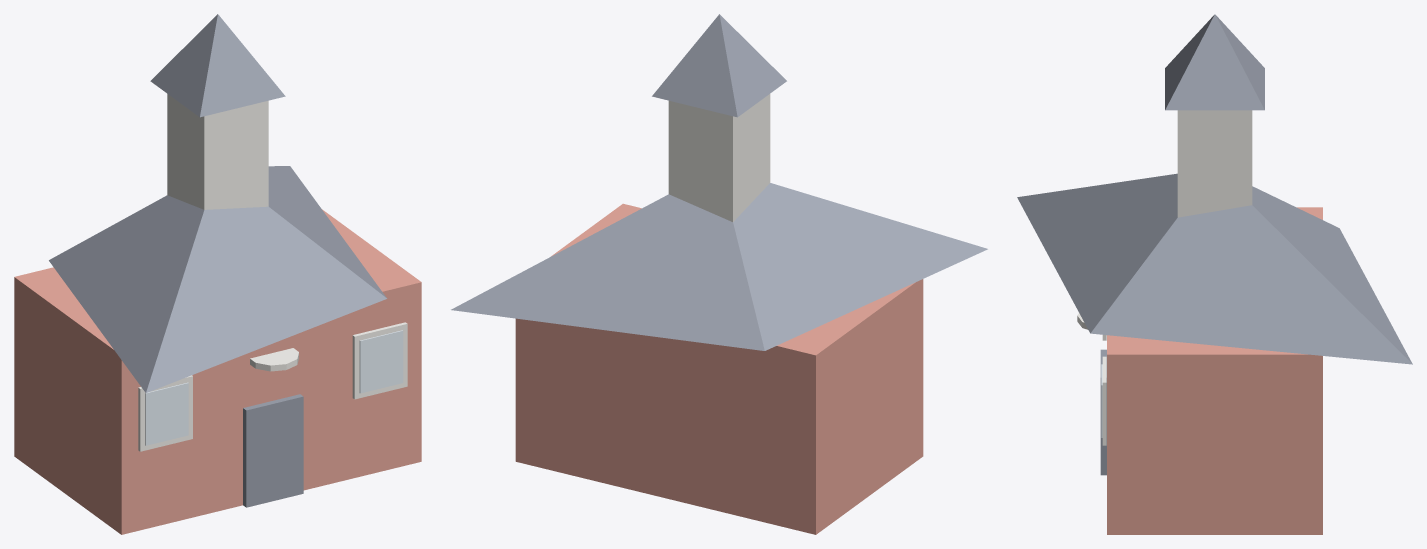
File: lp_schule.glb
3 renders of one model, left to right at view 1: azimuth 30°, elevation 25°; view 2: azimuth 150°, elevation 25°; view 3: azimuth 270°, elevation 25°, orthographic.
Visible parts, largest first — view 1: schule; view 2: schule; view 3: schule.
Part boxes in pixels (x1,y1,x2,y2): schule: (14, 14, 421, 534); schule: (451, 14, 987, 534); schule: (1017, 14, 1412, 534).
Bounding box in the file's own units: 4.77 × 5.95 × 4.77.
